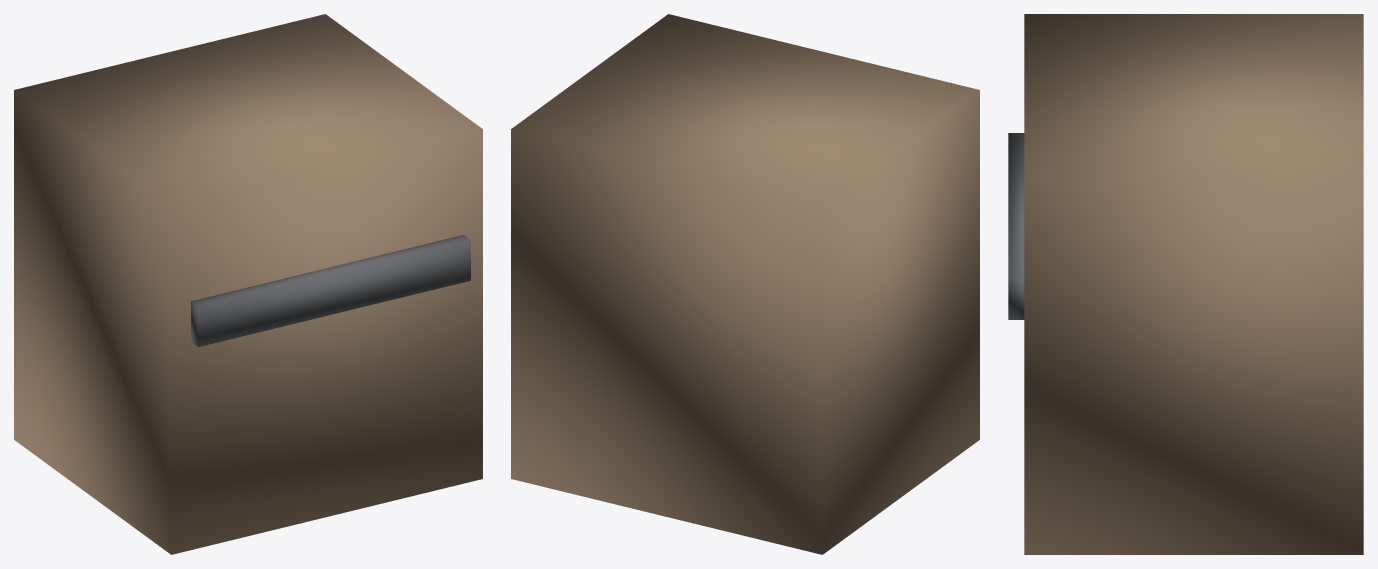
File: nightstand__reinforced.glb
The picture shows the model from 3 angles, left to right: view 1: azimuth 30°, elevation 25°; view 2: azimuth 150°, elevation 25°; view 3: azimuth 270°, elevation 25°; orthographic projection. The views are drawn at different scales.
Parts seen in each view (by area): view 1: world; view 2: world; view 3: world.
Boxes of the visible parts, x1=… form: world: x1=14, y1=14, x2=482, y2=554; world: x1=511, y1=14, x2=979, y2=554; world: x1=1008, y1=14, x2=1363, y2=554.
Size of the model in its own units: 0.4944 by 0.5304 by 0.4532.
